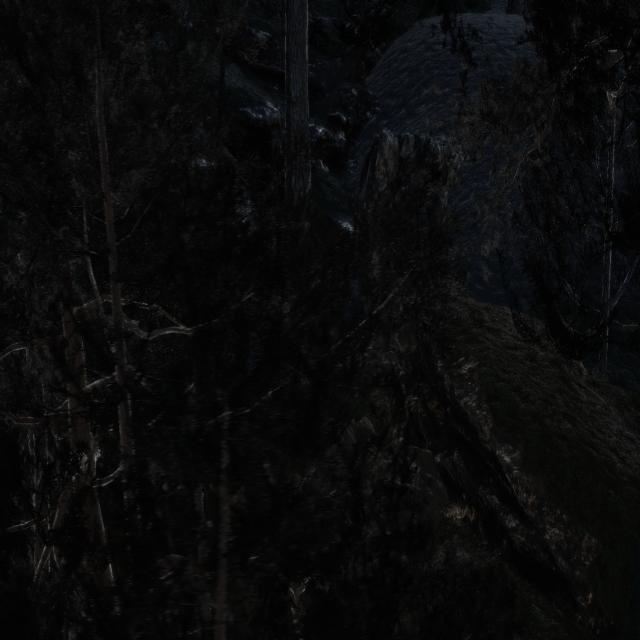Human: (234, 274, 260, 398)
